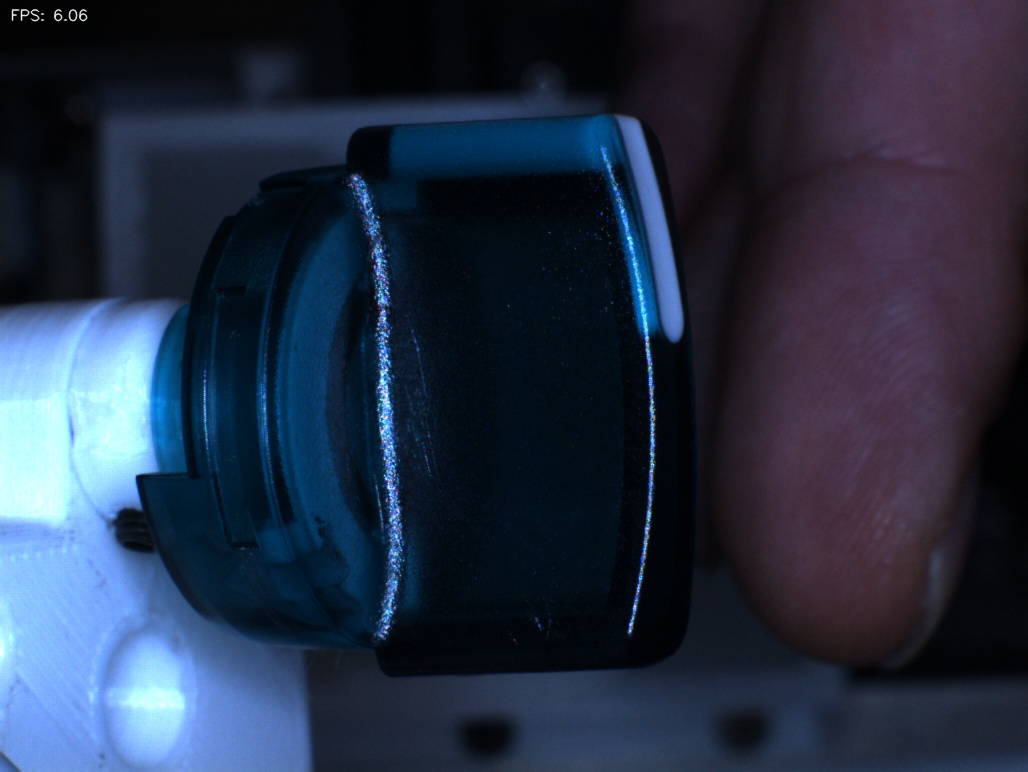Givrage: (388, 298, 482, 520), (494, 563, 581, 655)
